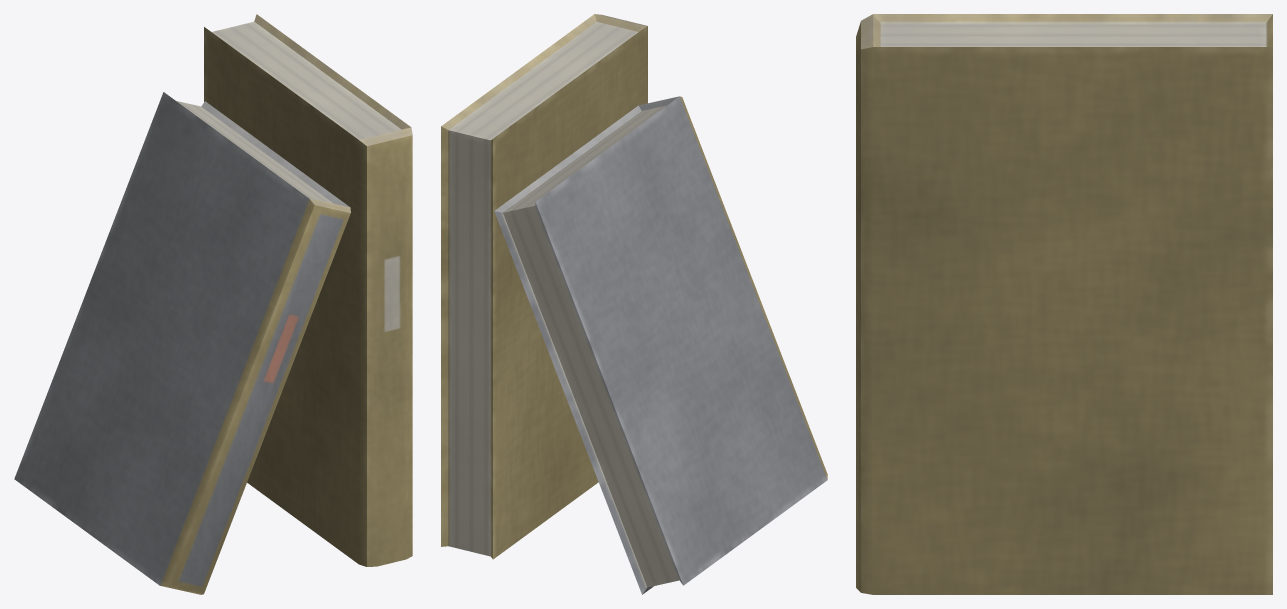
The model's file is Book2.fbx.
The picture shows the model from 3 angles, left to right: view 1: azimuth 30°, elevation 25°; view 2: azimuth 150°, elevation 25°; view 3: azimuth 270°, elevation 25°; orthographic projection. The views are drawn at different scales.
Visible parts, largest first — view 1: book 2; view 2: book 2; view 3: book 2.
Part boxes in pixels (x1,y1,x2,y2): book 2: (14,14,412,594); book 2: (441,14,827,594); book 2: (856,14,1272,594).
Bounding box in the file's own units: 0.1392 × 0.232 × 0.16.
1 material, 1 textured.
